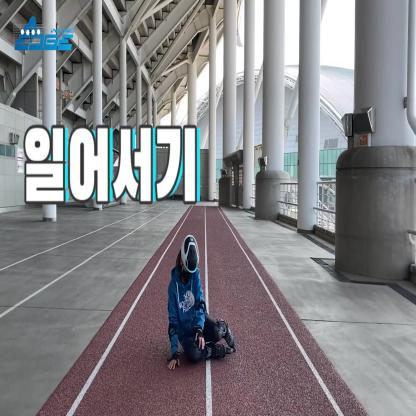Fall_Down: (167, 236, 235, 372)
